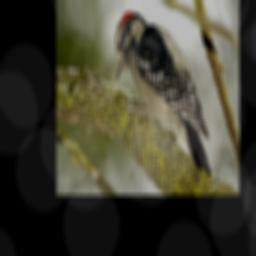Woodpecker: (115, 8, 220, 182)
